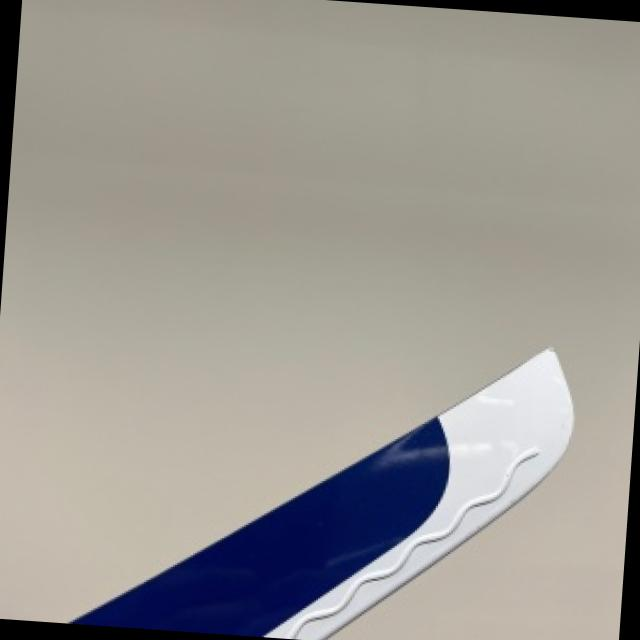healthy: (68, 346, 569, 639)
